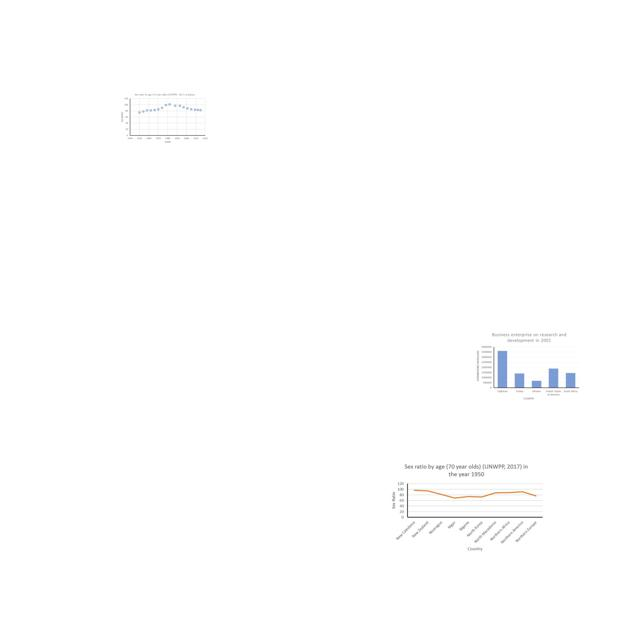Graph: (387, 461, 546, 554), (475, 330, 581, 403), (119, 91, 209, 144)
